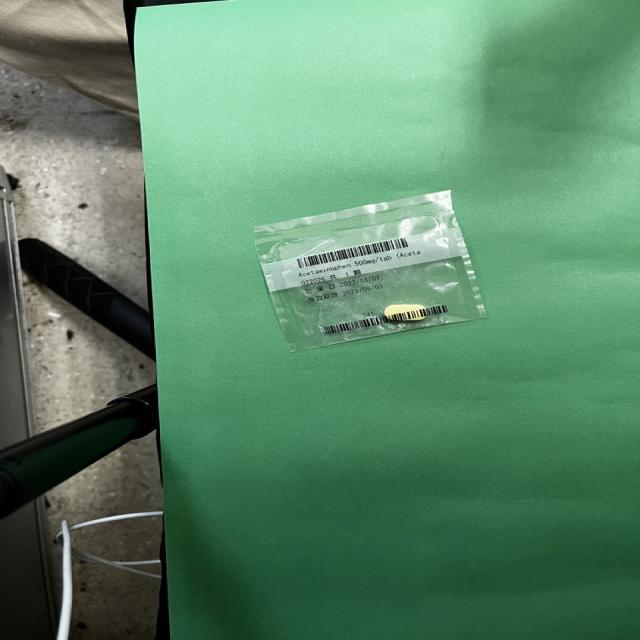Other Objects: (255, 191, 485, 351)
